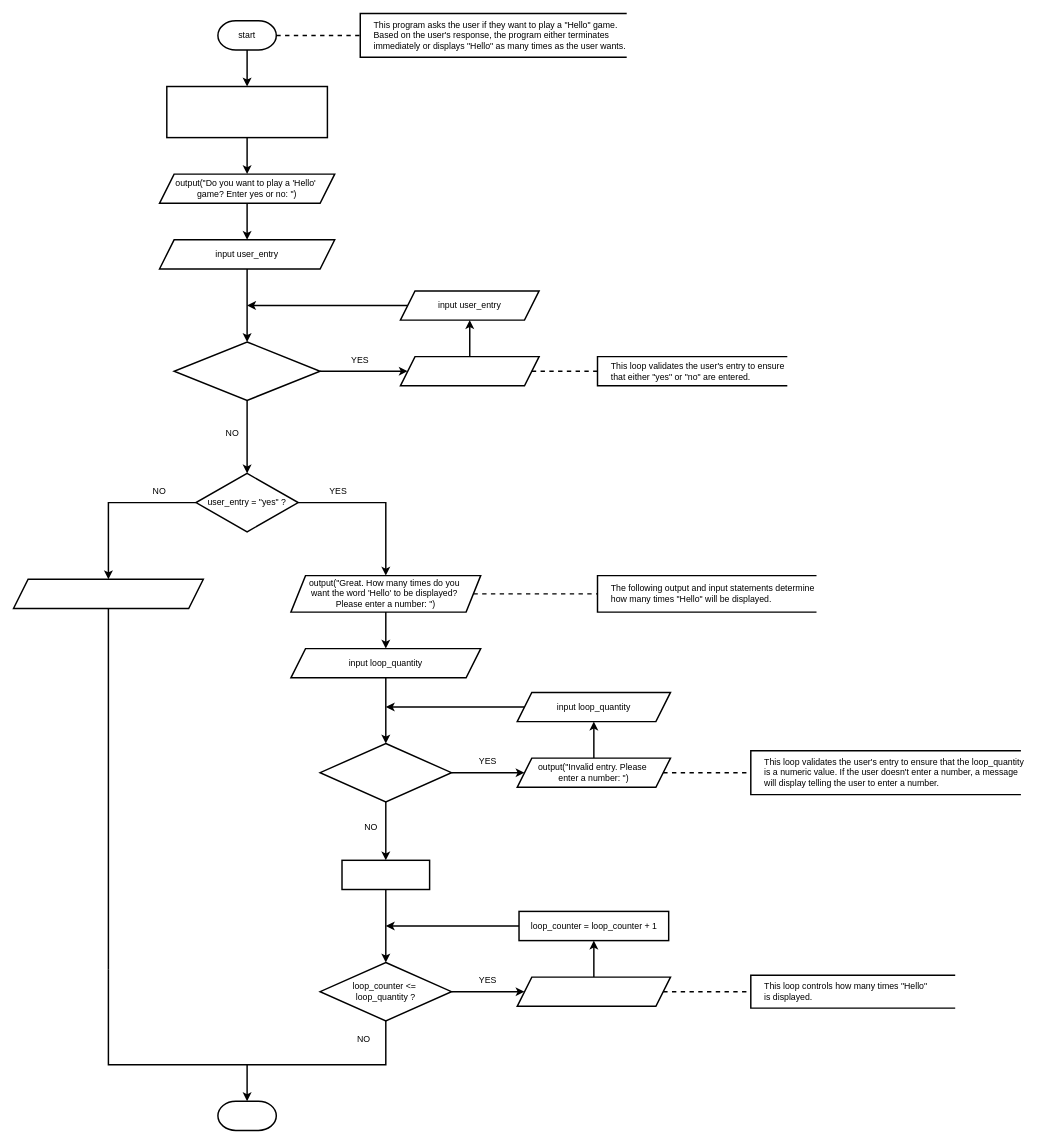
The diagram is 1039 pixels wide and 1143 high, and some of its shapes have lost their labels. The centre of each missing label's shape, as x and y in pixels:
Declaration num loop_counter num loop_quantity string user_entry: (247,111)
loop_counter = 1: (385,874)
NOT (user_entry = "yes" OR user_entry = "no") ?: (246,371)
NOT isNumeric(loop_quantity) ?: (385,772)
output("Hello"): (593,991)
output("Invalid entry. Please enter yes or no: "): (469,371)
output("The program has been terminated."): (108,593)
stop: (247,1115)
